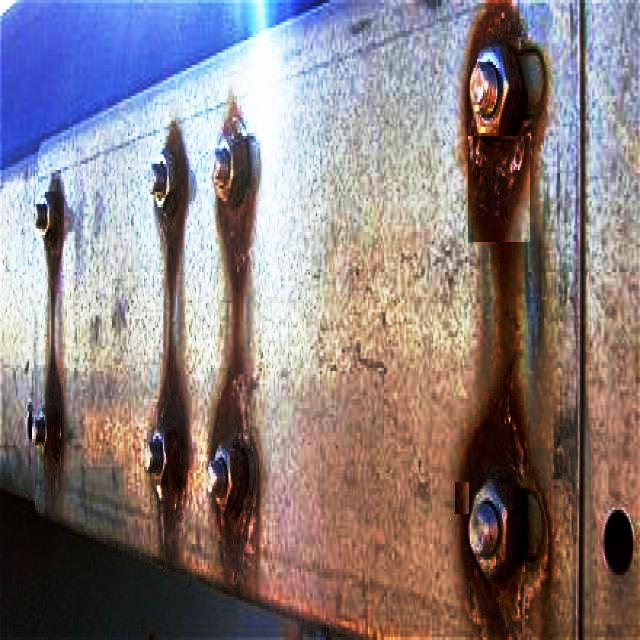Corrosion: (464, 230, 528, 498), (470, 135, 530, 242), (214, 266, 248, 450), (160, 171, 188, 340), (461, 516, 498, 640), (215, 184, 257, 278), (472, 0, 523, 62), (227, 440, 256, 520), (164, 418, 187, 506), (500, 75, 530, 139), (507, 484, 528, 562), (158, 355, 186, 408), (42, 225, 73, 270), (46, 393, 64, 464), (219, 95, 247, 140), (162, 118, 187, 166), (48, 172, 70, 226), (156, 395, 187, 425)
